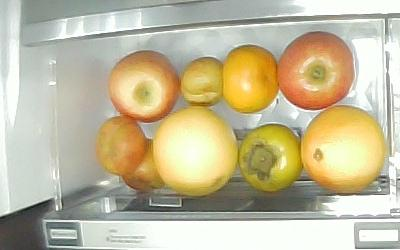apple: (277, 31, 354, 110), (107, 50, 180, 123)
grapefruit: (154, 107, 237, 198), (301, 105, 384, 192)
persimmon: (239, 123, 301, 191), (222, 44, 278, 112)
prune: (94, 116, 147, 175), (120, 137, 166, 191), (179, 56, 223, 106)
